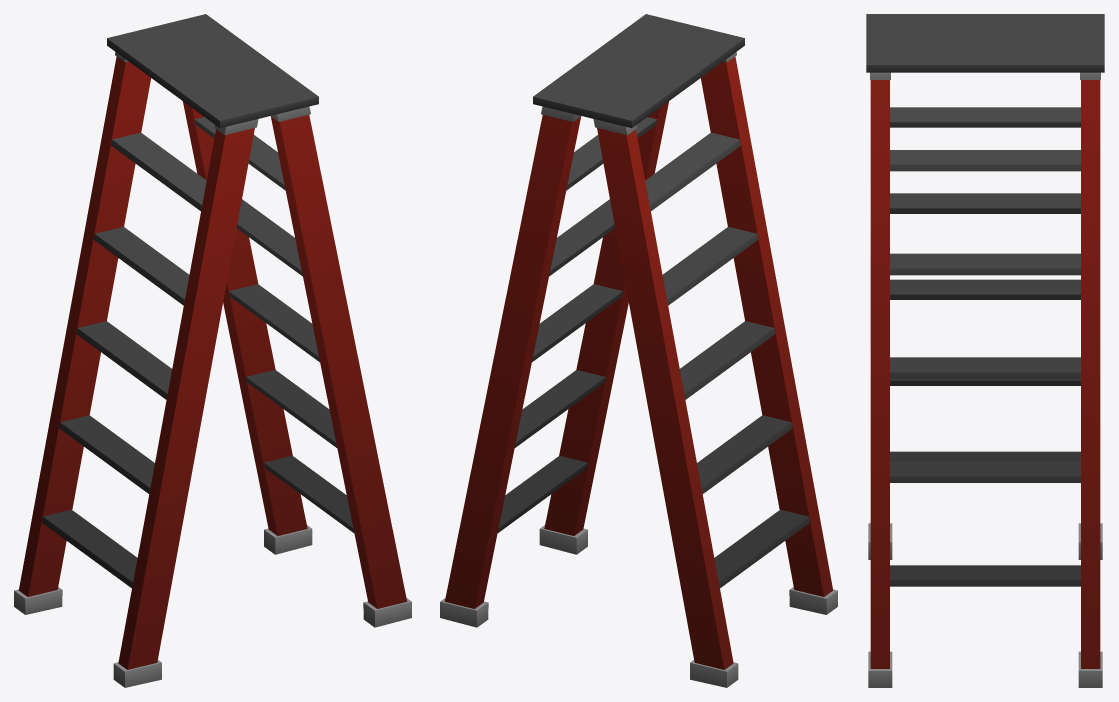
The model's file is Prop_Ladder_01.obj.
3 views of the same model, side by side, from view 1: azimuth 30°, elevation 25°; view 2: azimuth 150°, elevation 25°; view 3: azimuth 270°, elevation 25° (orthographic). The views are drawn at different scales.
Visible parts, largest first — view 1: Prop_Ladder_01; view 2: Prop_Ladder_01; view 3: Prop_Ladder_01.
Boxes of the visible parts, x1,y1,x2,y2 form: Prop_Ladder_01: [14, 14, 411, 687]; Prop_Ladder_01: [440, 14, 837, 687]; Prop_Ladder_01: [866, 14, 1104, 687].
Size of the model in its own units: 1.24 by 2.26 by 0.8479.
Materials: 1 (1 with a texture image).
